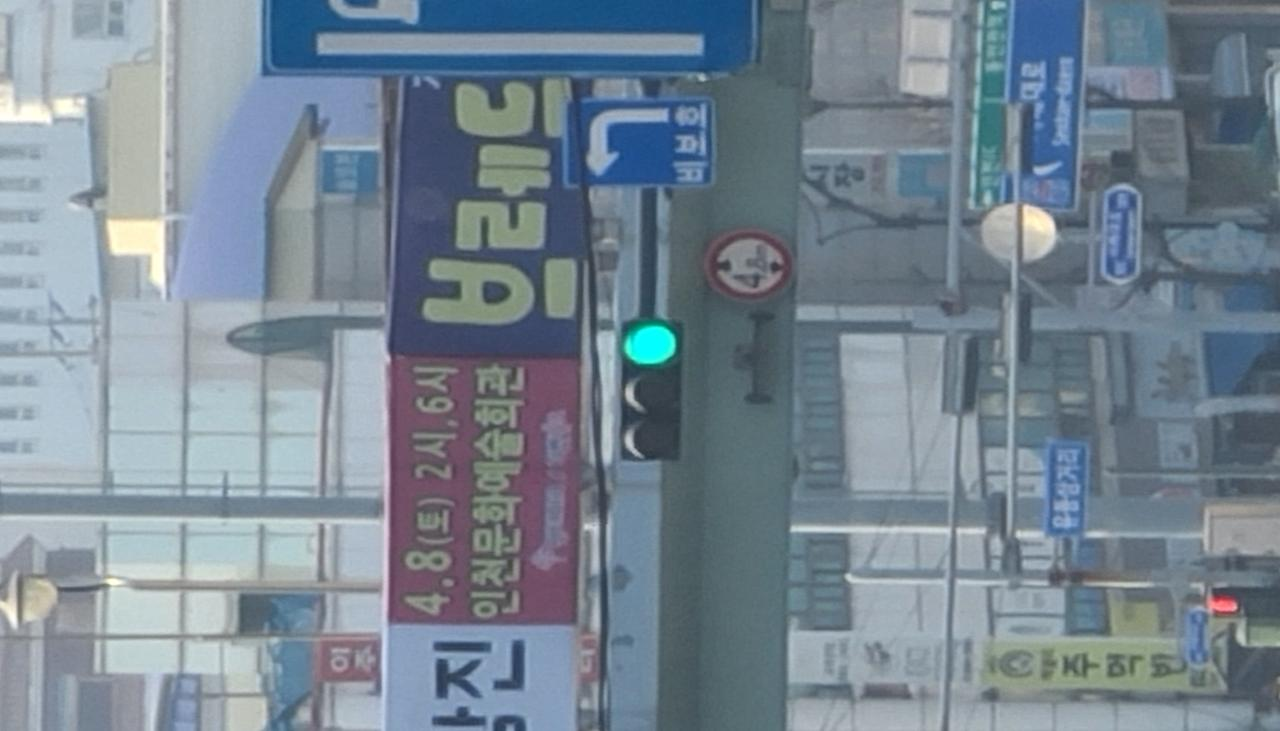Green Light: (477, 475, 539, 521)
